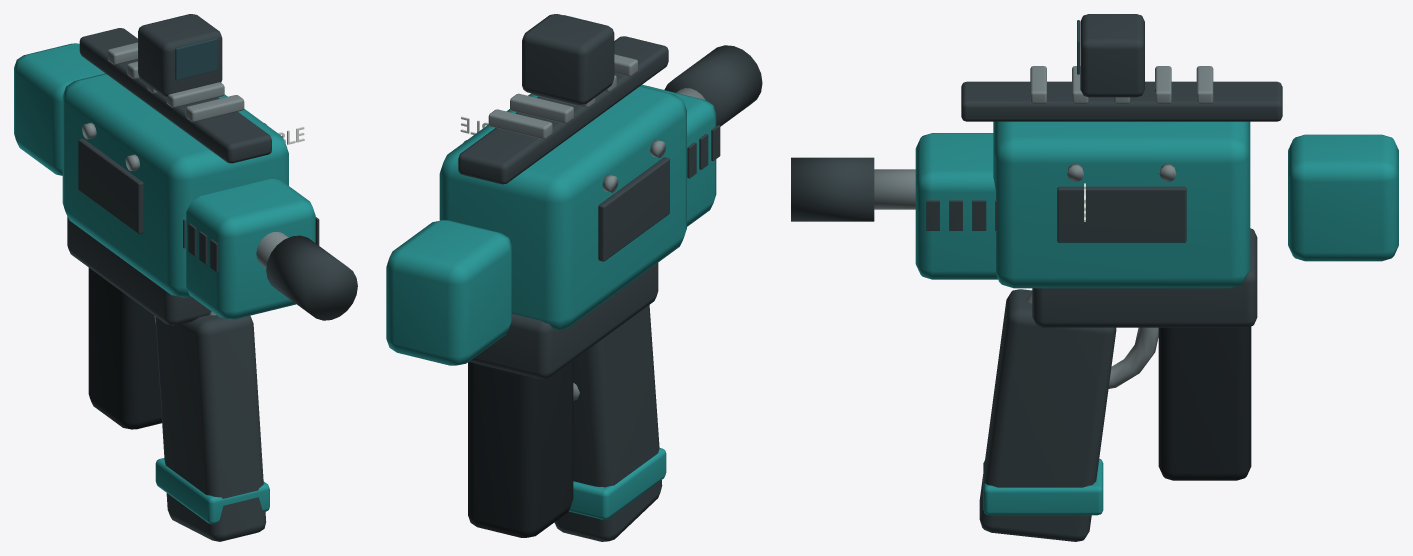
File: sable_smg_abyss.glb
3 views of the same model, side by side, from view 1: azimuth 30°, elevation 25°; view 2: azimuth 150°, elevation 25°; view 3: azimuth 270°, elevation 25° (orthographic). The views are drawn at different scales.
Visible parts, largest first — view 1: sable_smg_abyss; view 2: sable_smg_abyss; view 3: sable_smg_abyss.
Part boxes in pixels (bbox=[...]): sable_smg_abyss: bbox=[14, 14, 357, 541]; sable_smg_abyss: bbox=[386, 14, 762, 541]; sable_smg_abyss: bbox=[791, 14, 1398, 541].
Size of the model in its own units: 0.2377 by 0.6045 by 0.6582.
